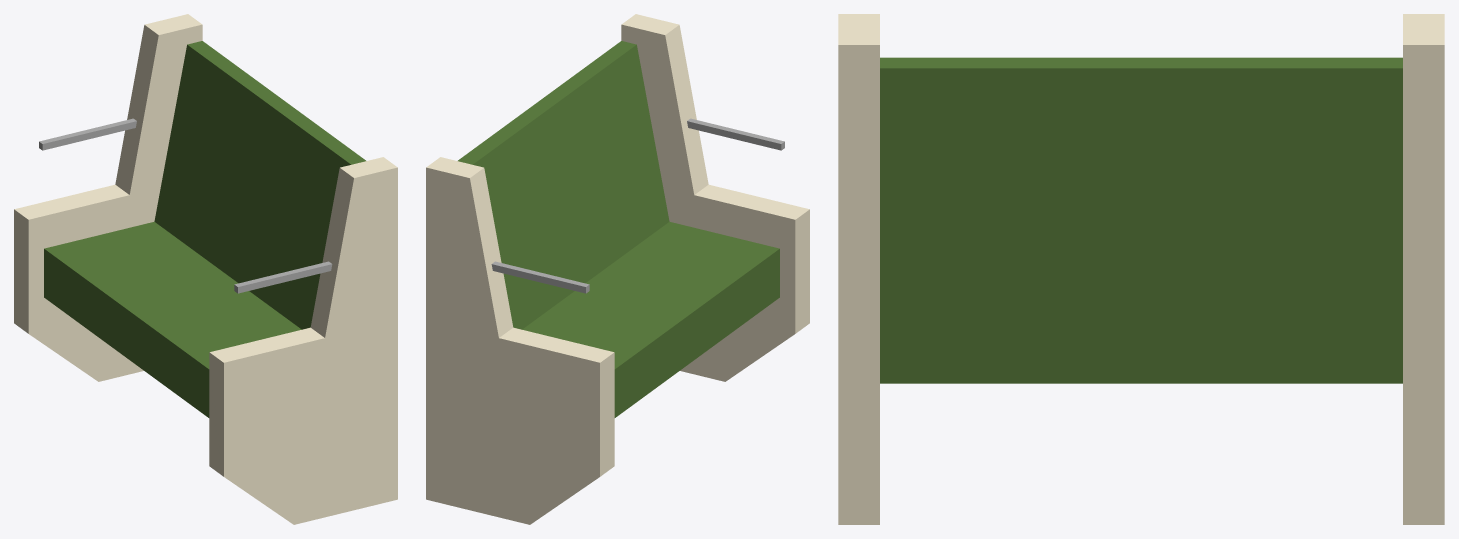
Rendered from S_SitRecto_PH.fbx.
3 renders of one model, left to right at view 1: azimuth 30°, elevation 25°; view 2: azimuth 150°, elevation 25°; view 3: azimuth 270°, elevation 25°, orthographic. The views are drawn at different scales.
Parts seen in each view (by area): view 1: オブジェクト_521.001; view 2: オブジェクト_521.001; view 3: オブジェクト_521.001.
Boxes of the visible parts, box(x1,y1,x2,y2) form: オブジェクト_521.001: box(14, 14, 397, 524); オブジェクト_521.001: box(426, 14, 809, 524); オブジェクト_521.001: box(838, 14, 1444, 524).
Size of the model in its own units: 55.87 by 102 by 117.
